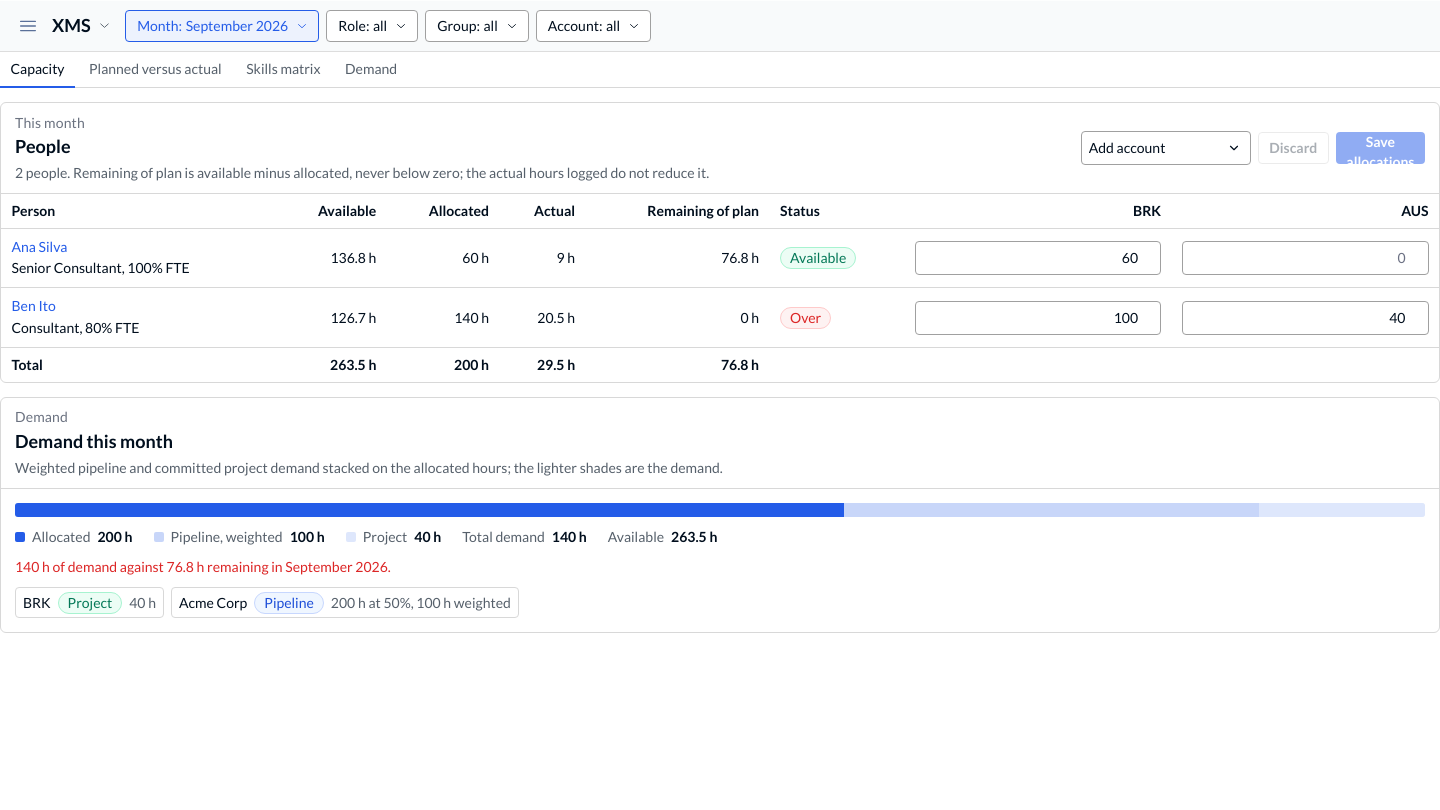
Scenario: CapacityPage › edits cells inline under capacity:manage and saves them as one PUT with the versions; 0 clears
Expected: the table named "Capacity by person" is shown, [1,194,1439,382]
Expected: the column heading "BRK" is shown, [904,194,1172,228]
Replace the text in the number field named "Ana Silva on BRK" with "70": (1038, 258) [915,241,1161,275]
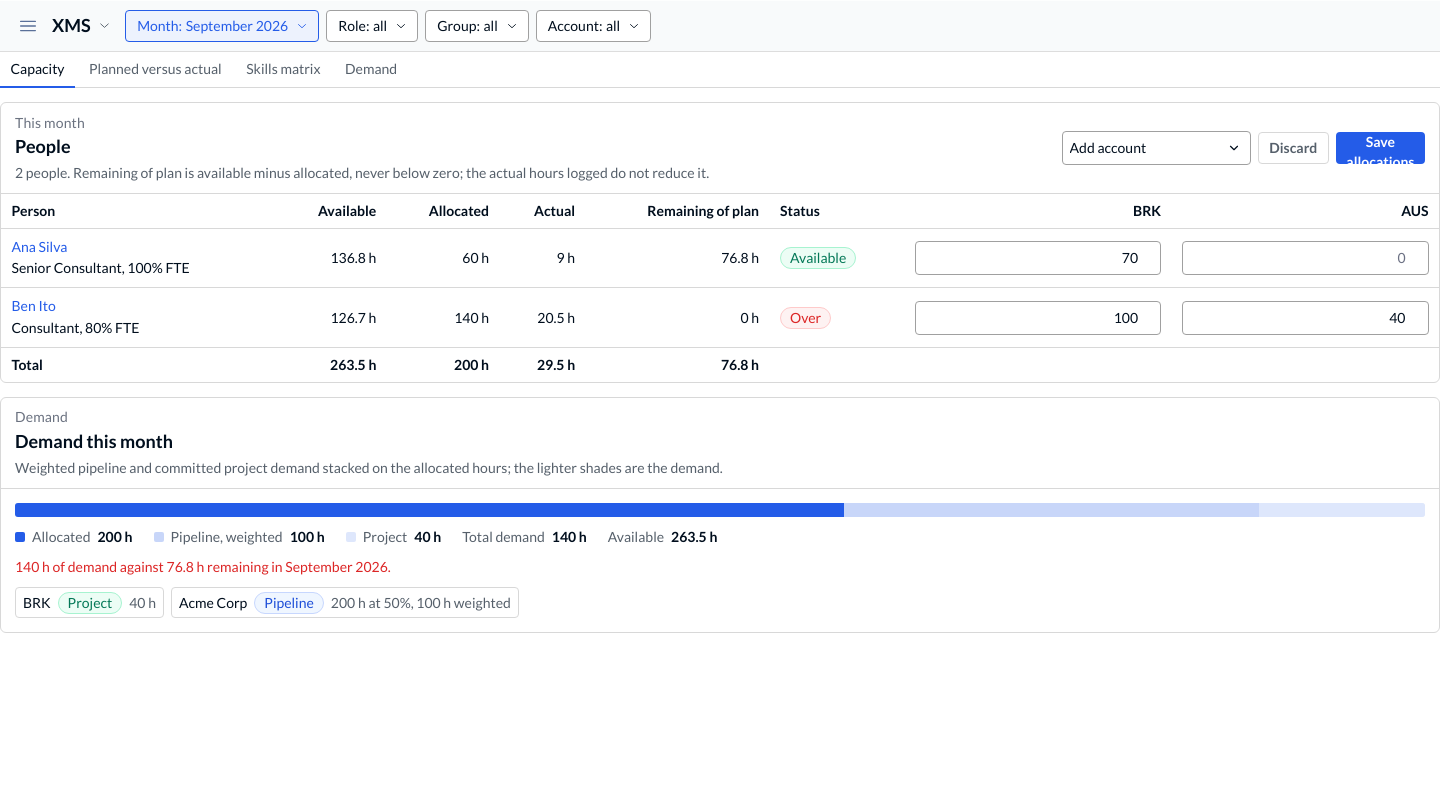
Clear the number field named "Ben Ito on AUS": (1305, 318) [1182,301,1428,335]
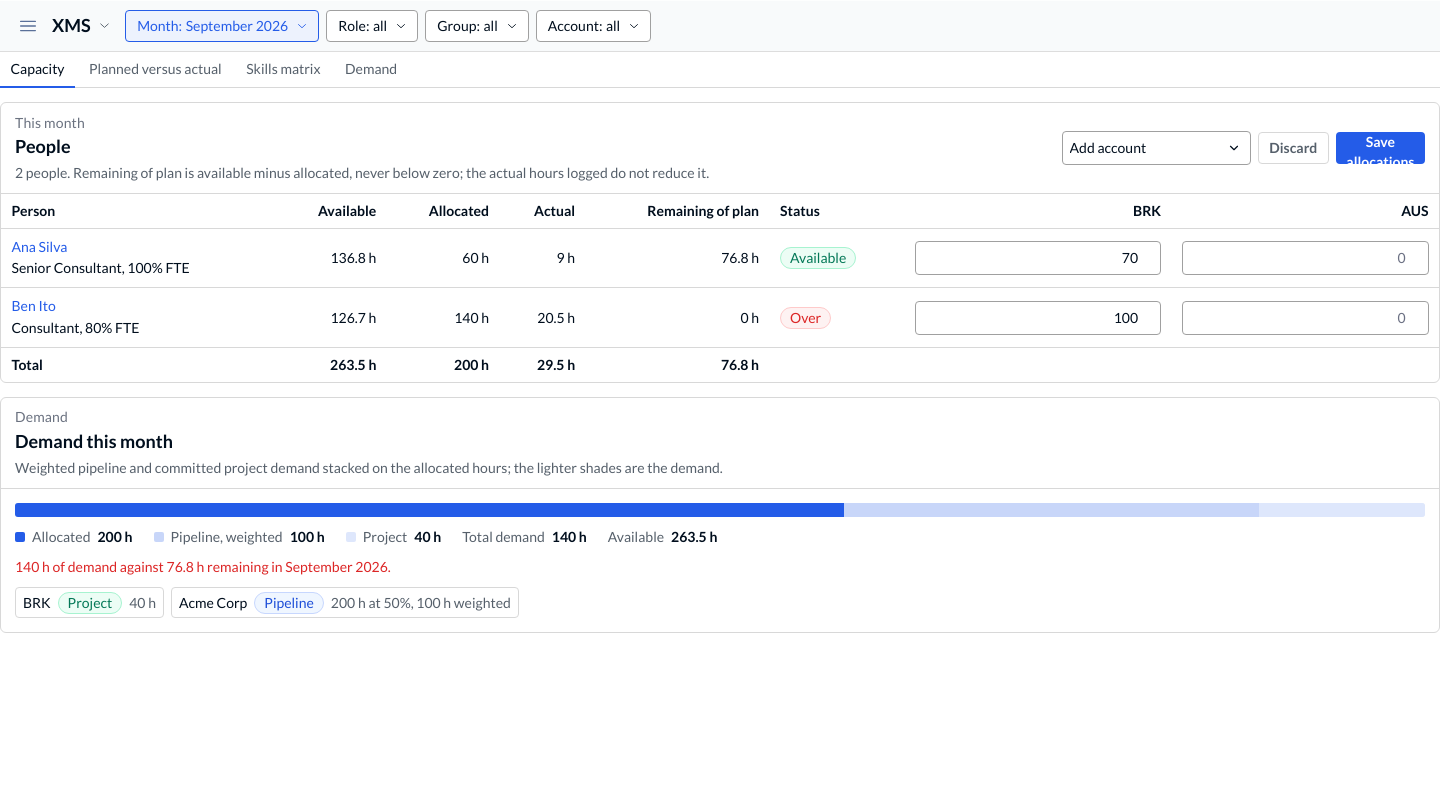
Click the button "Save allocations (2)": (1380, 148) [1336,132,1425,164]
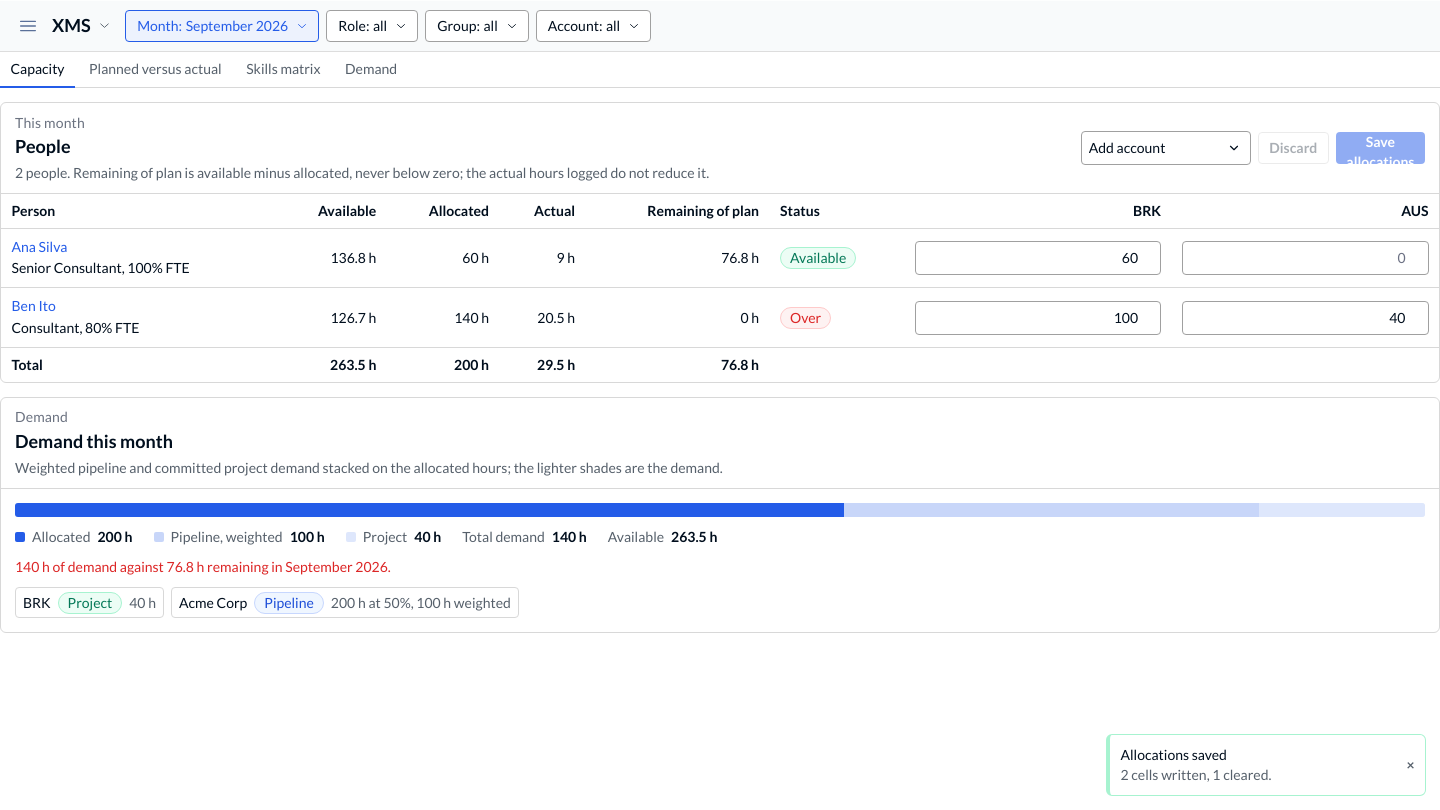
Expected: the text "Allocations saved" is shown, [1120,746,1227,763]
Expected: the text "2 cells written, 1 cleared." is shown, [1120,765,1272,784]
